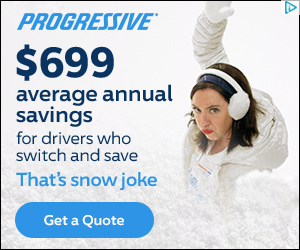fake_button: (12, 199, 161, 248), (274, 0, 299, 19)
